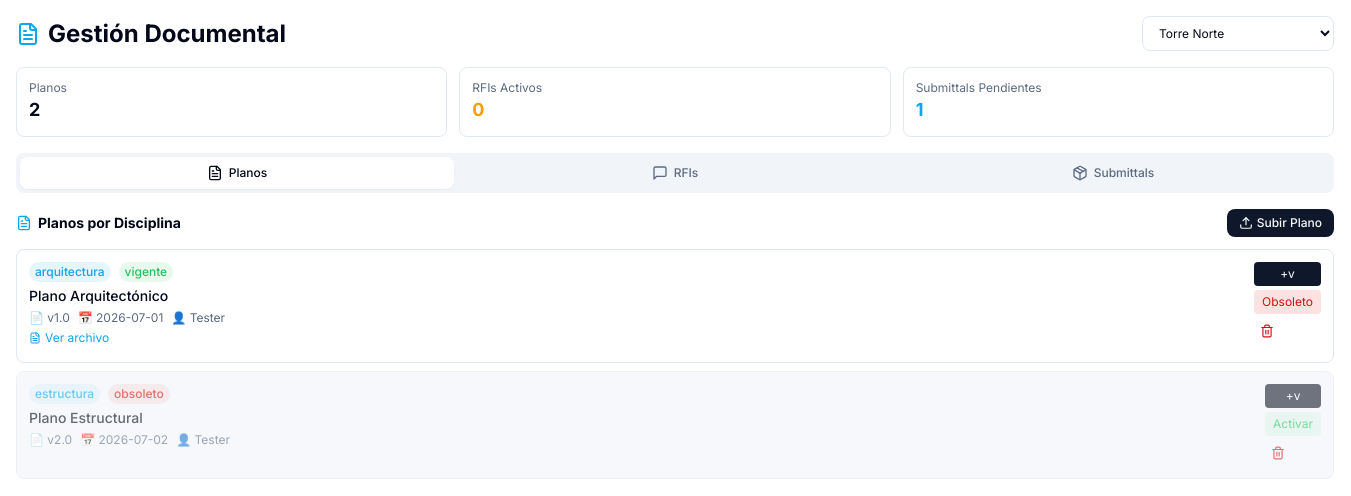
it: GestionDocumental Screen › Estado vacío por tab › muestra mensaje cuando no hay RFIs
Click the button labelled "RFIs". click: (675, 173)
box: [458,157,892,189]
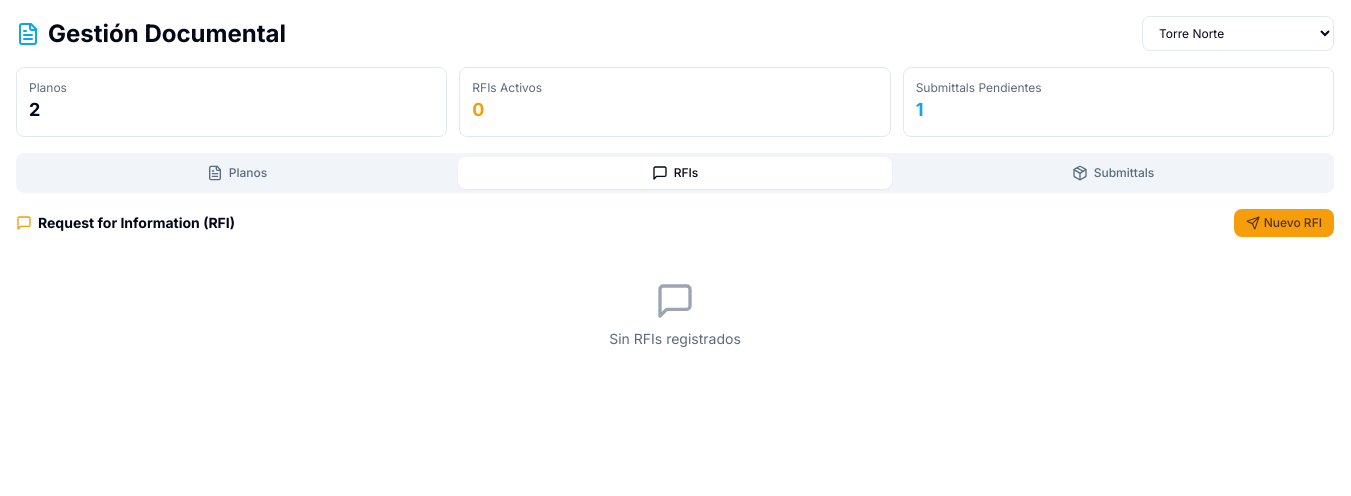
expect the text "Sin RFIs registrados" is shown: met, box [609,330,741,347]
